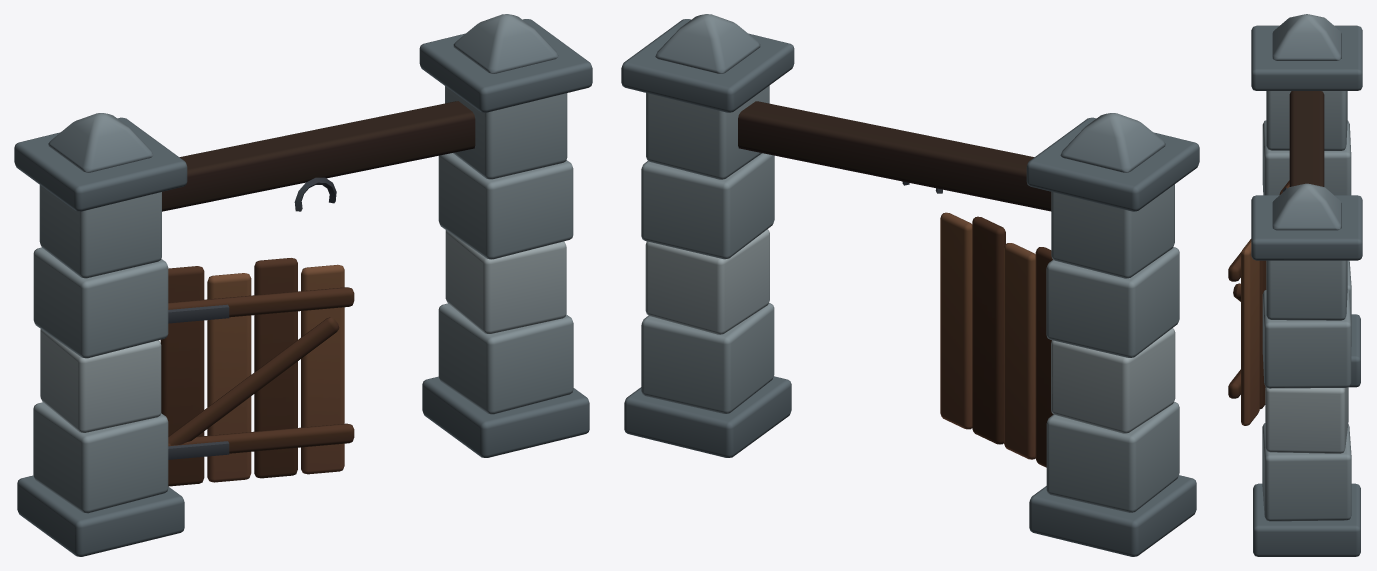
File: march_gate.glb
3 renders of one model, left to right at view 1: azimuth 30°, elevation 25°; view 2: azimuth 150°, elevation 25°; view 3: azimuth 270°, elevation 25°, orthographic. The views are drawn at different scales.
Parts seen in each view (by area): view 1: march_gate, march_gate_trim; view 2: march_gate; view 3: march_gate.
Boxes of the visible parts, <box> form: march_gate: <box>14,14,592,556</box>; march_gate_trim: <box>168,177,336,459</box>; march_gate: <box>621,14,1199,556</box>; march_gate: <box>1228,14,1362,556</box>.
Size of the model in its own units: 2.94 by 2.22 by 0.7722.
